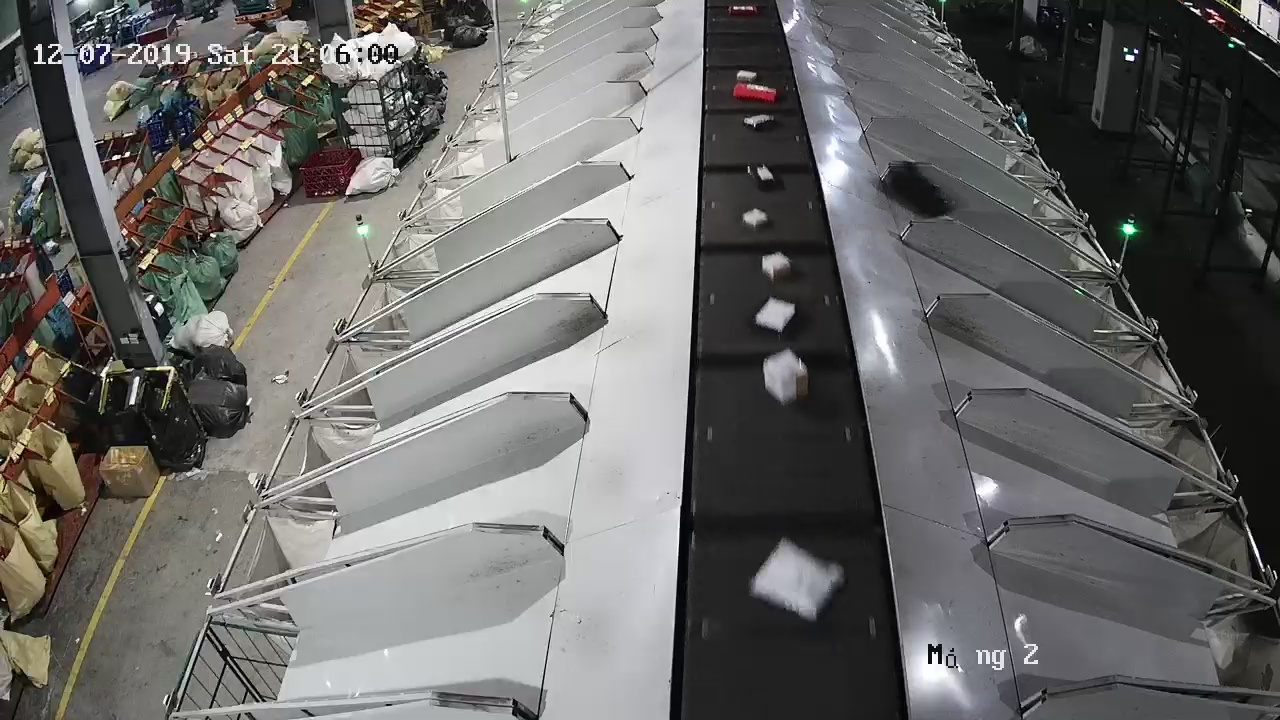parcel: (884, 170, 951, 218)
